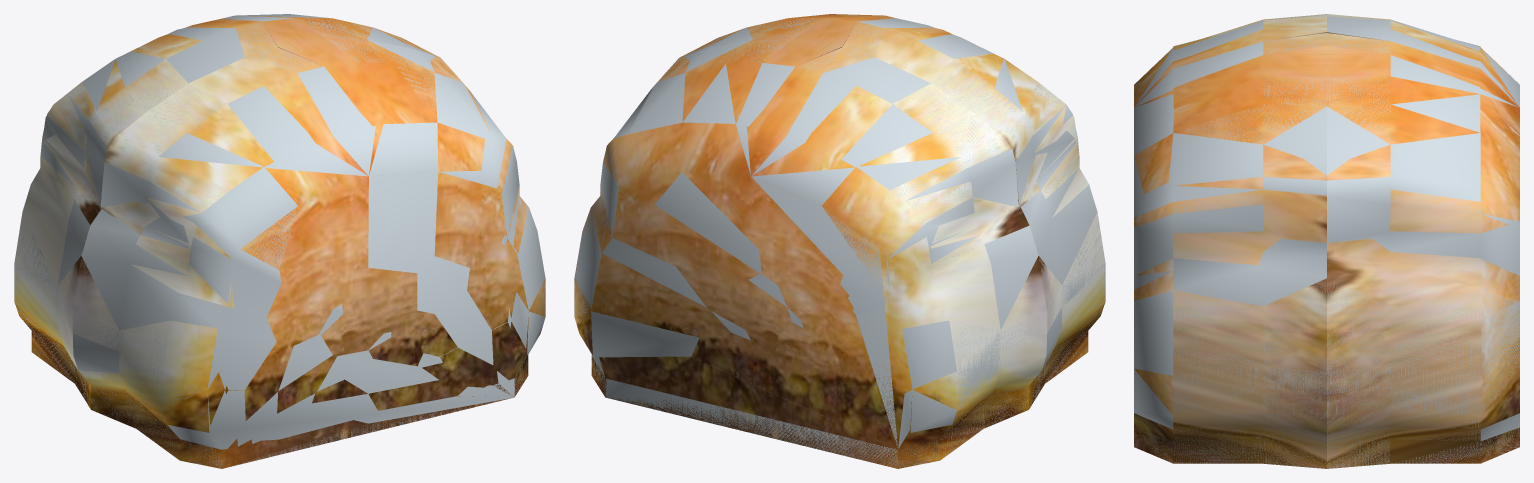
Rendered from baklava.fbx.
3 renders of one model, left to right at view 1: azimuth 30°, elevation 25°; view 2: azimuth 150°, elevation 25°; view 3: azimuth 270°, elevation 25°, orthographic. The views are drawn at different scales.
Visible parts, largest first — view 1: group_0; view 2: group_0; view 3: group_0.
Part boxes in pixels (left/top/right/bottom): group_0: left=14, top=14, right=545, bottom=468; group_0: left=574, top=14, right=1105, bottom=468; group_0: left=1134, top=14, right=1519, bottom=468.
Size of the model in its own units: 316 by 234 by 249.
